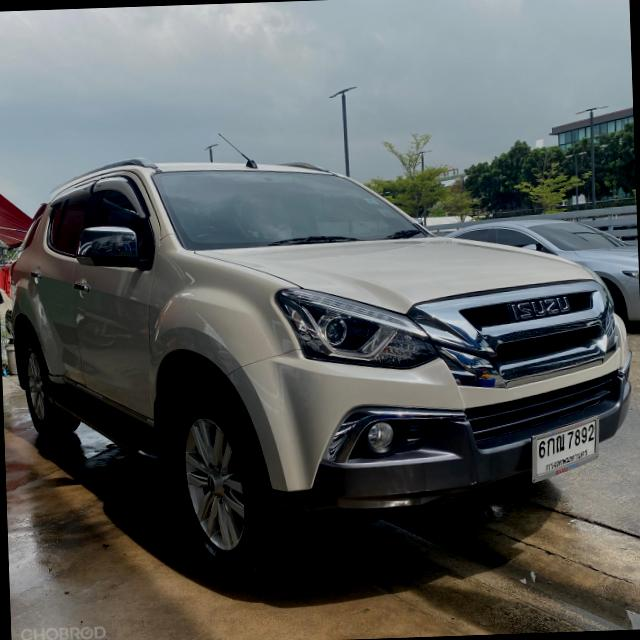license_plate: (524, 418, 604, 485)
